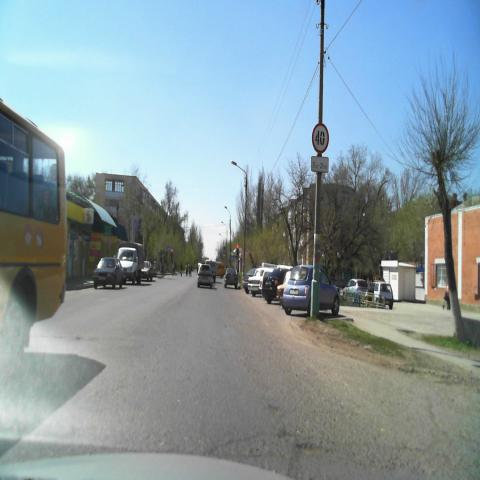8_5_4: (311, 154, 329, 172)
